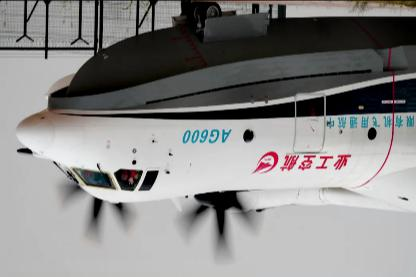AG600: (15, 1, 415, 267)
